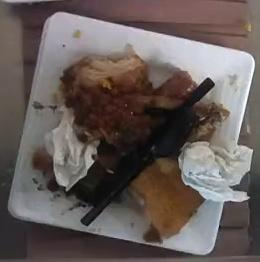chicken: (61, 51, 173, 152)
unknown: (129, 158, 204, 239)
